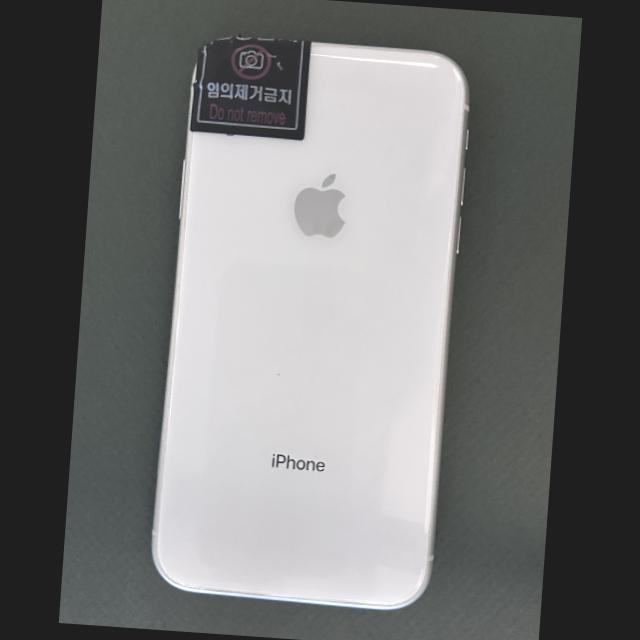phone: (150, 36, 470, 609)
sticker: (190, 34, 311, 140)
